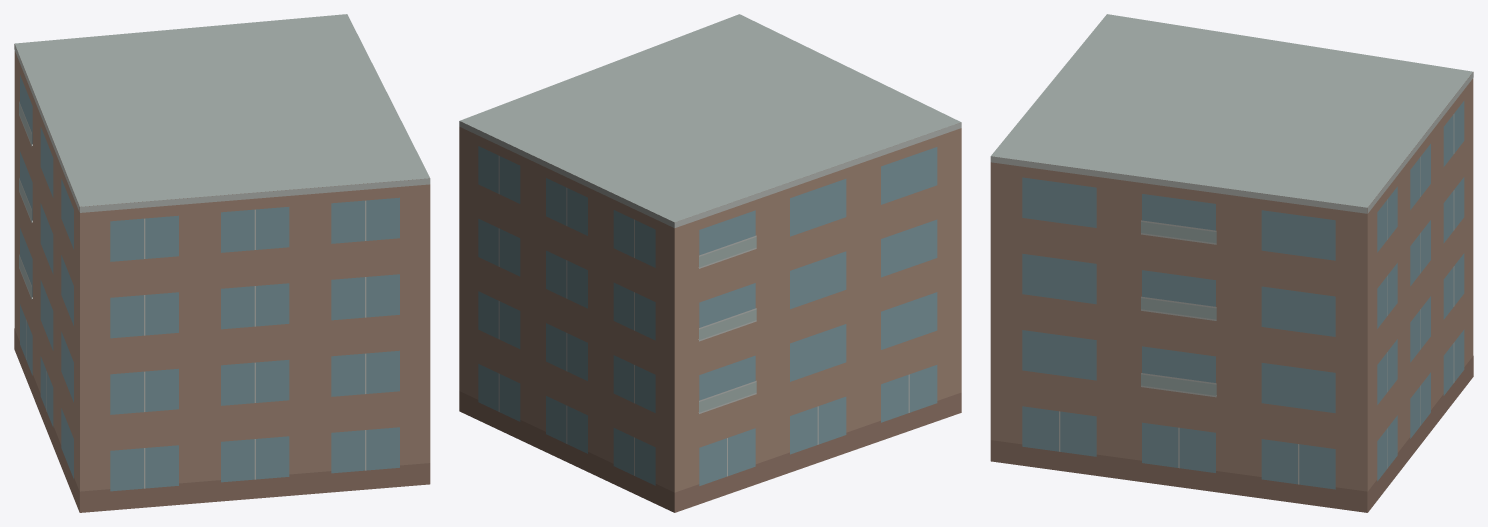
File: survey-upis-32854454.glb
The picture shows the model from 3 angles, left to right: view 1: azimuth 30°, elevation 25°; view 2: azimuth 150°, elevation 25°; view 3: azimuth 270°, elevation 25°; orthographic projection. The views are drawn at different scales.
Visible parts, largest first — view 1: survey-upis-32854454.tmp; view 2: survey-upis-32854454.tmp; view 3: survey-upis-32854454.tmp.
Boxes of the visible parts, bbox=[...] form: survey-upis-32854454.tmp: bbox=[14, 14, 430, 512]; survey-upis-32854454.tmp: bbox=[459, 14, 961, 512]; survey-upis-32854454.tmp: bbox=[990, 14, 1473, 512].
Size of the model in its own units: 16.62 by 12.2 by 17.5.
